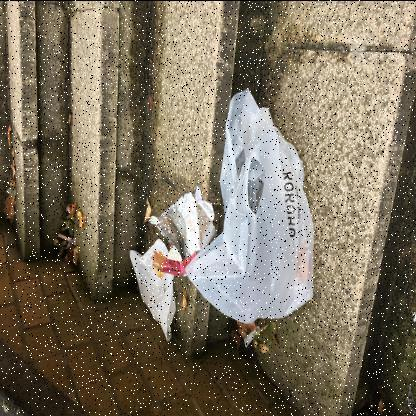paper: (130, 238, 177, 342)
plastic: (186, 88, 317, 324), (150, 186, 218, 274)
